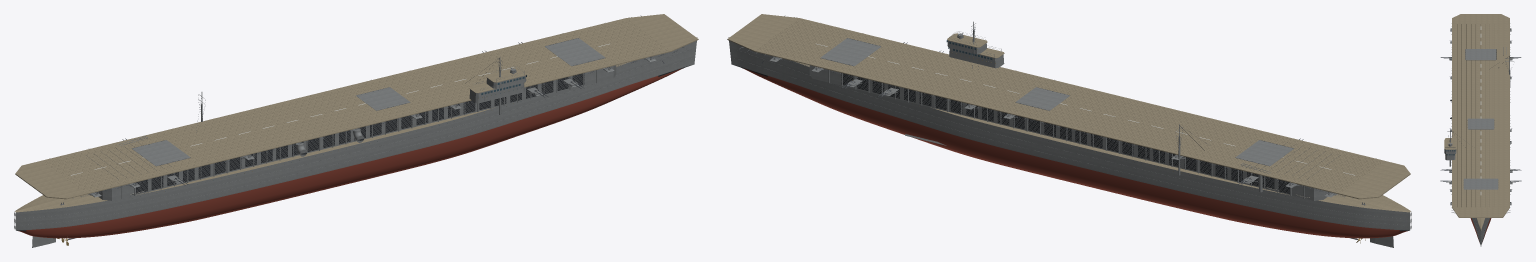
The model's file is demo-soryu.glb.
3 views of the same model, side by side, from view 1: azimuth 30°, elevation 25°; view 2: azimuth 150°, elevation 25°; view 3: azimuth 270°, elevation 25° (orthographic). The views are drawn at different scales.
Parts seen in each view (by area): view 1: Soryu, Midway1942; view 2: Soryu, Midway1942; view 3: Soryu, Midway1942.
Part boxes in pixels (x1,y1,x2,y2): Soryu, Midway1942: [14, 14, 698, 247]; Soryu, Midway1942: [727, 14, 1411, 247]; Soryu, Midway1942: [1440, 14, 1521, 246].
Size of the model in its own units: 228 by 32.6 by 36.52.
Materials: 9 (2 with a texture image).
